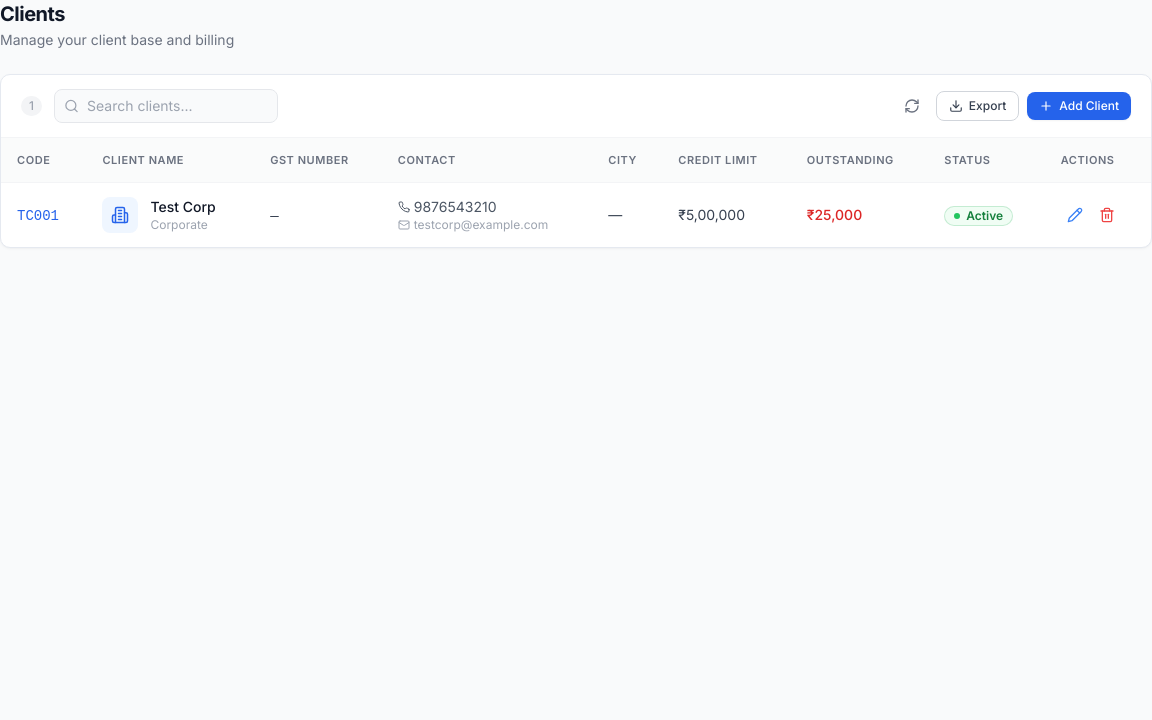
Test: ClientsPage › creates a client via the form
Step 1. Click the button "Add Client" → click(1079, 106), box [1027, 92, 1131, 120]
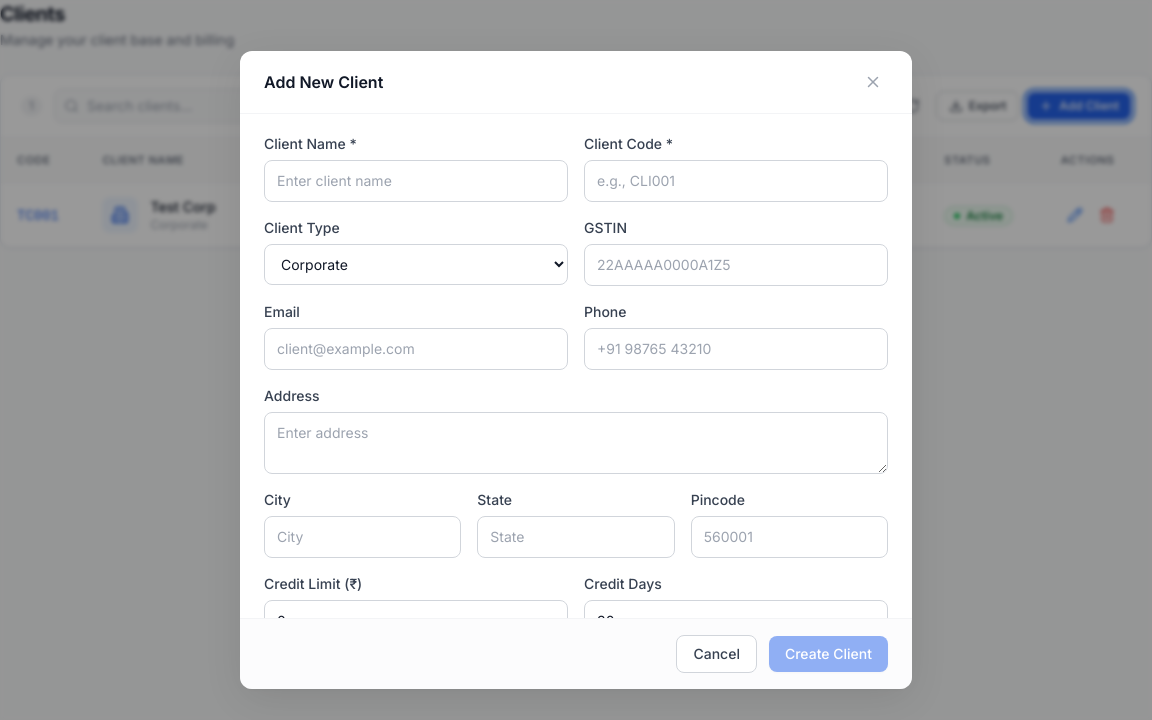
Note: Fill required fields - name and code
Step 2. Type "New Client" into the field with placeholder "Enter client name" → (416, 181), box [264, 160, 568, 202]
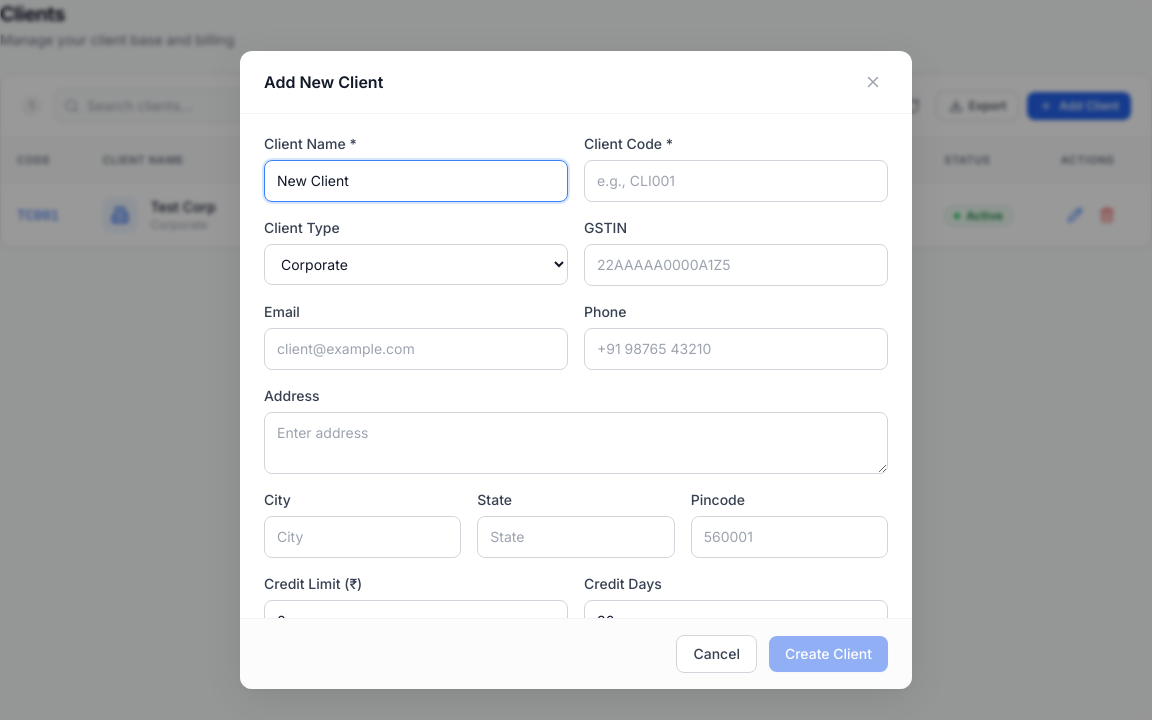
Step 3. Type "NC001" into the field with placeholder "e.g., CLI001" → (736, 181), box [584, 160, 888, 202]
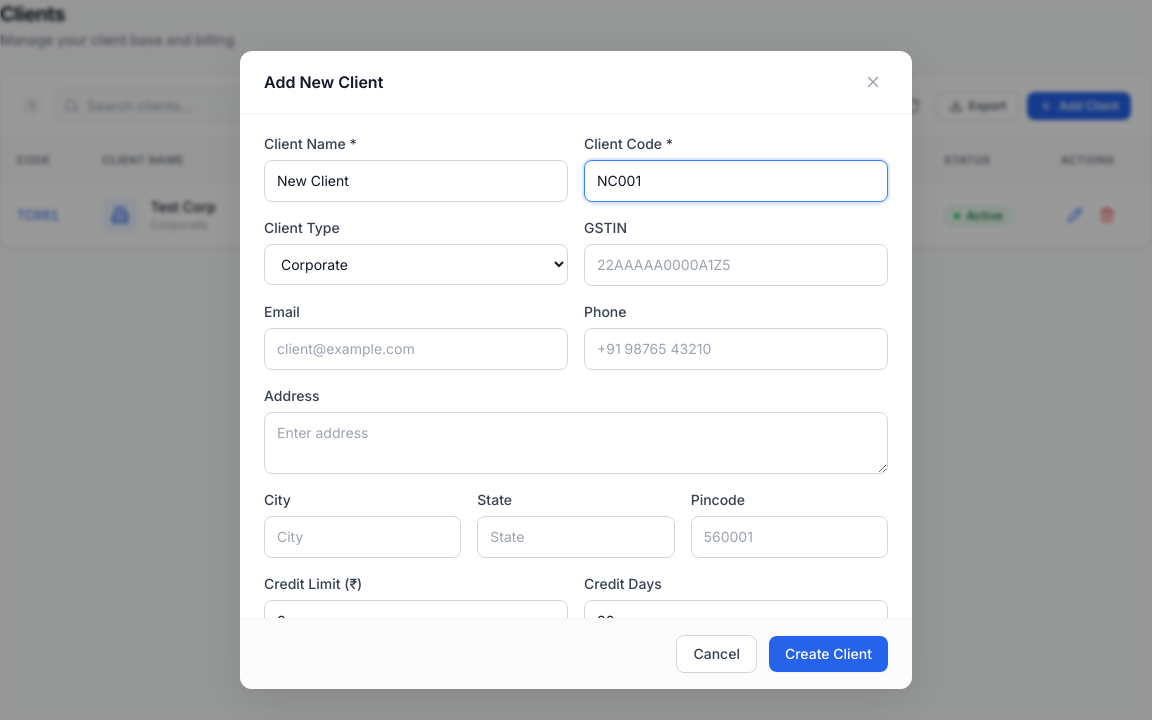
Step 4. Click the button "Create Client" → click(828, 654), box [769, 636, 888, 672]
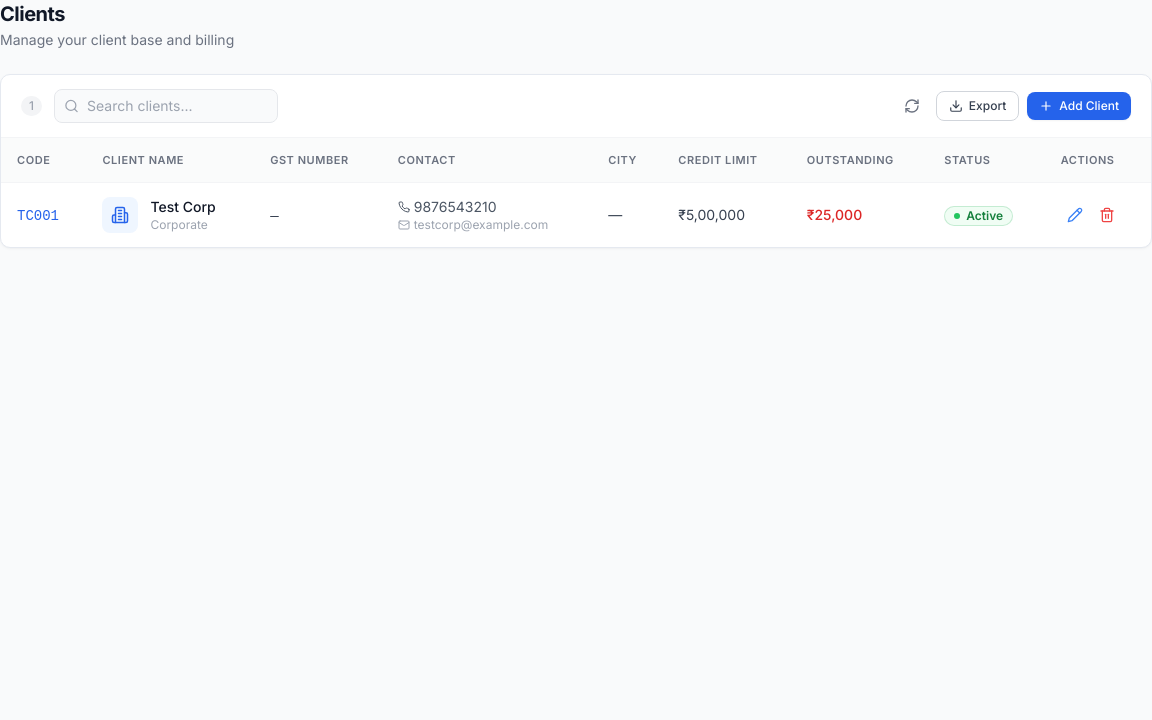
Expected: the heading "Add New Client" is gone
